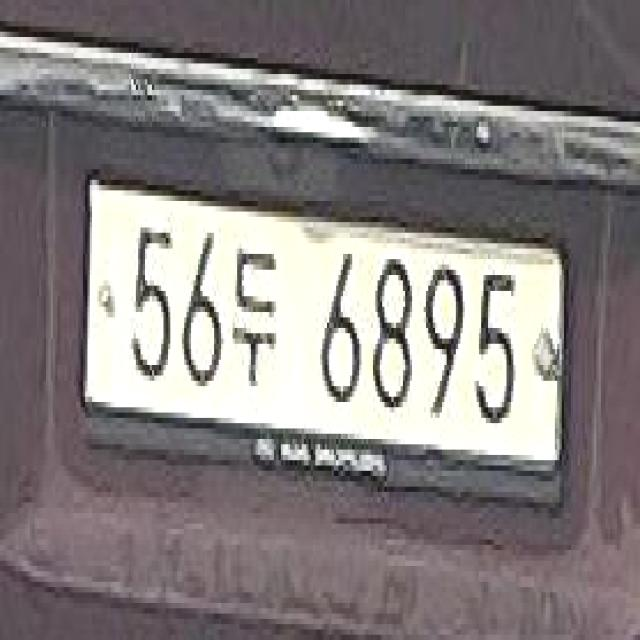illegal_plate: (87, 183, 570, 517)
